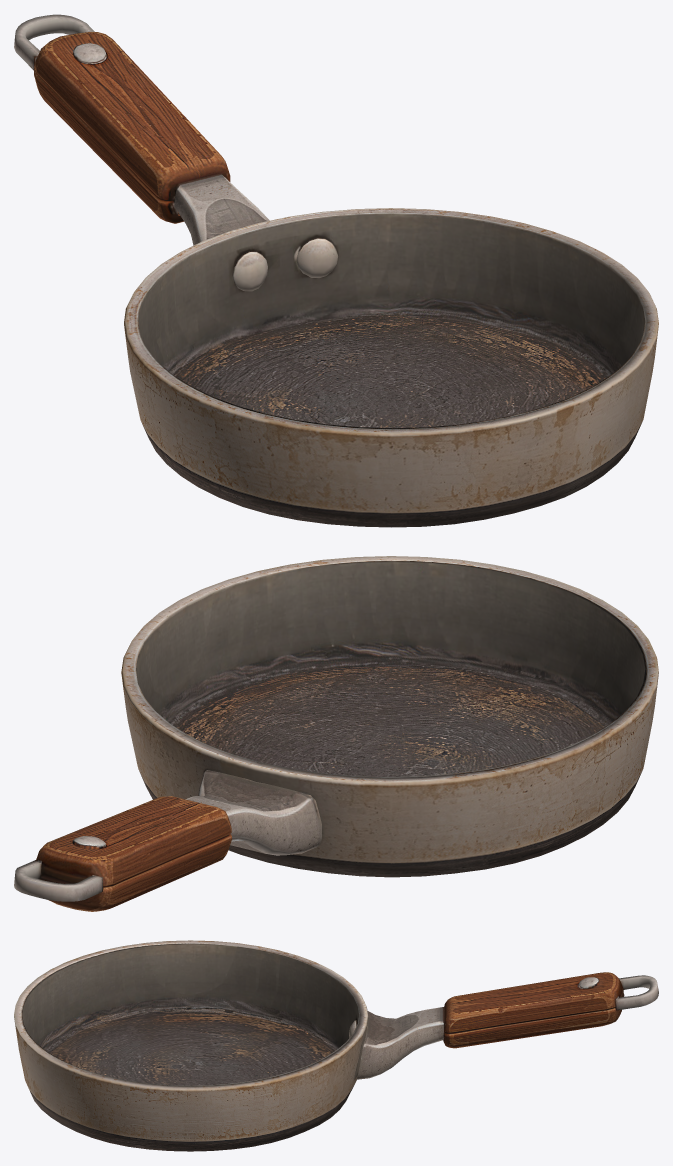
File: P98_small_frying_pan_Runtime_1k.glb
The picture shows the model from 3 angles, top to bottom: view 1: azimuth 30°, elevation 25°; view 2: azimuth 150°, elevation 25°; view 3: azimuth 270°, elevation 25°; orthographic projection. The views are drawn at different scales.
Visible parts, largest first — view 1: tripo_248090cf_143a_43cf_b182_4602aecfaa3d; view 2: tripo_248090cf_143a_43cf_b182_4602aecfaa3d; view 3: tripo_248090cf_143a_43cf_b182_4602aecfaa3d.
Part boxes in pixels (bbox=[...]): tripo_248090cf_143a_43cf_b182_4602aecfaa3d: bbox=[14, 14, 658, 527]; tripo_248090cf_143a_43cf_b182_4602aecfaa3d: bbox=[14, 556, 658, 911]; tripo_248090cf_143a_43cf_b182_4602aecfaa3d: bbox=[14, 940, 658, 1151].
Bounding box in the file's own units: 0.2198 × 0.0733 × 0.4.
1 material, 1 textured.
